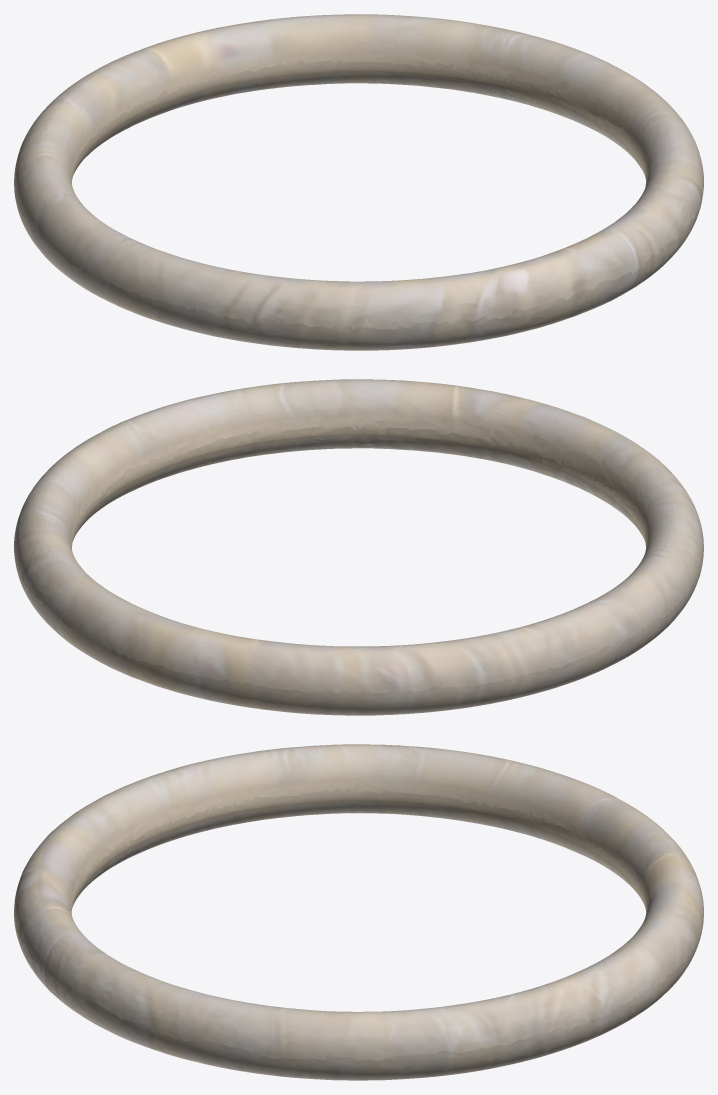
File: ring_pearl.glb
The picture shows the model from 3 angles, top to bottom: view 1: azimuth 30°, elevation 25°; view 2: azimuth 150°, elevation 25°; view 3: azimuth 270°, elevation 25°; orthographic projection.
Bounding box in the file's own units: 1.9 × 0.1982 × 1.9.
1 material, 1 textured.
